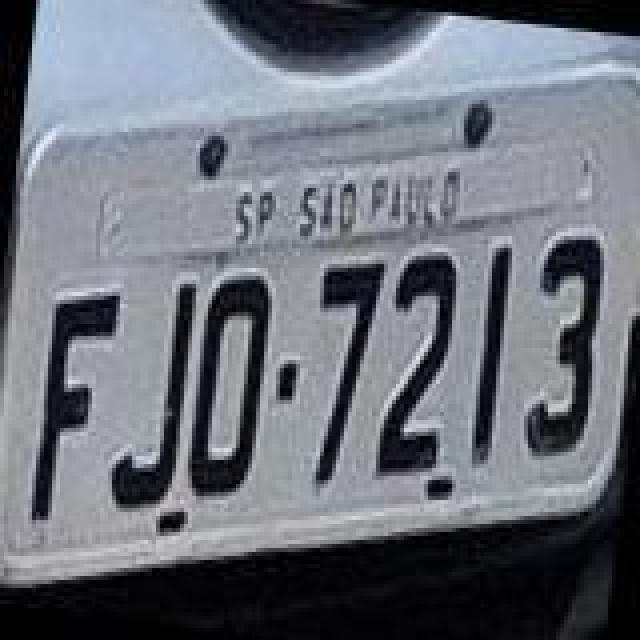1: (464, 240, 520, 472)
2: (368, 246, 464, 490)
3: (516, 224, 612, 464)
7: (292, 246, 388, 490)
F: (20, 282, 124, 534)
J: (104, 270, 200, 514)
O: (178, 262, 278, 506)
